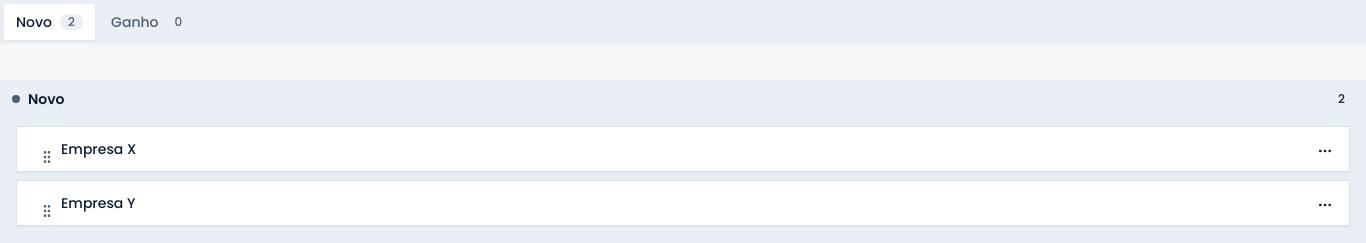
Kanban › no celular, arrastar a alça (toque) reordena dentro da coluna, visível na tela
This screenshot has width=1366, height=243.
Expected: the elements "Empresa" read "Empresa X", "Empresa Y", in this order, [61, 139, 136, 159]; [61, 193, 136, 213]
Press the mouse on the button named "Arrastar Empresa X": (47, 157) [25, 135, 69, 179]
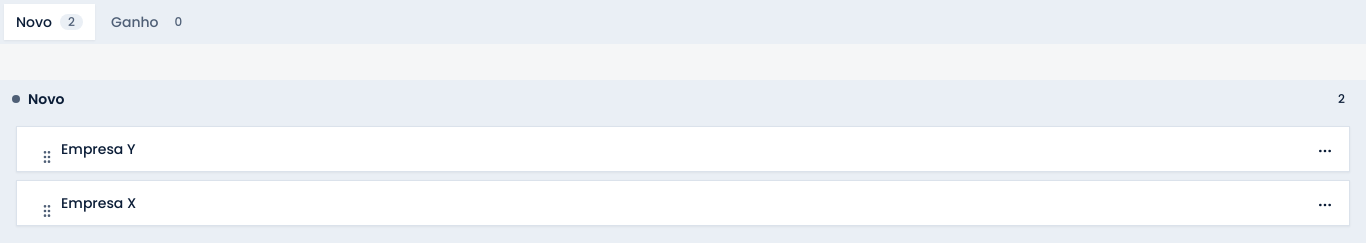
Expected: the elements "Empresa" read "Empresa Y", "Empresa X", in this order, [61, 139, 136, 159]; [61, 193, 136, 213]
